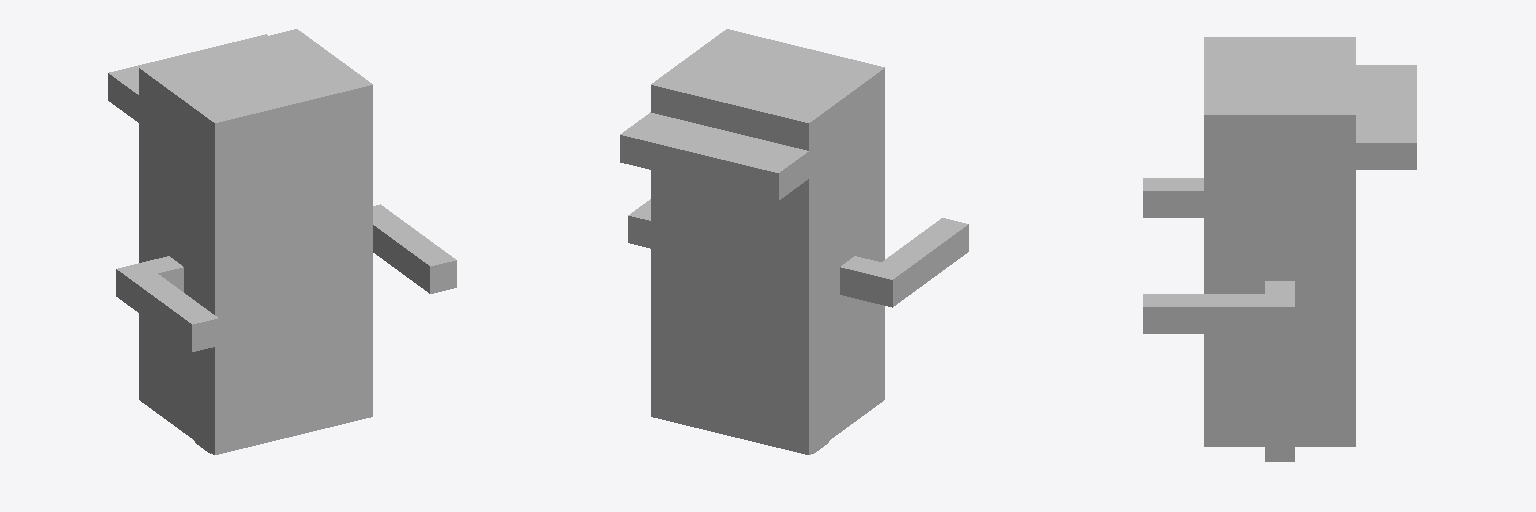
Rendered from bűnöző.2.obj.
3 views of the same model, side by side, from view 1: azimuth 30°, elevation 25°; view 2: azimuth 150°, elevation 25°; view 3: azimuth 270°, elevation 25° (orthographic).
Size of the model in its own units: 10 by 13 by 9.